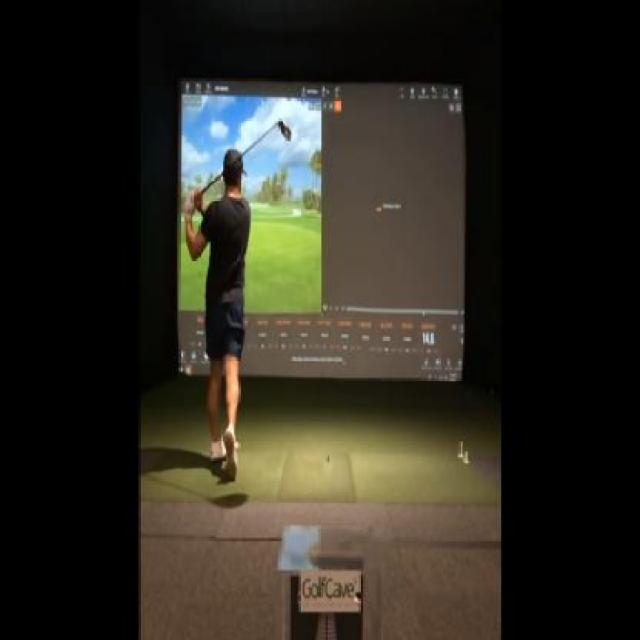club head: (272, 117, 294, 141)
